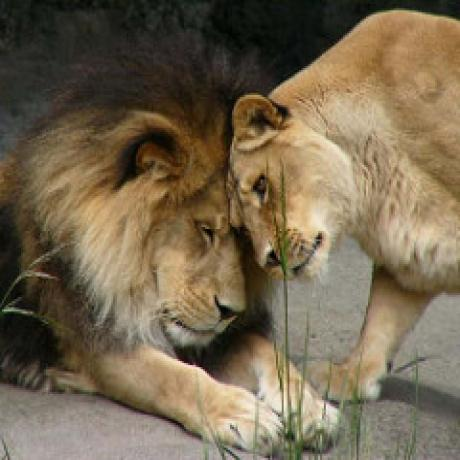Lion: (0, 74, 332, 460), (224, 6, 460, 396)
